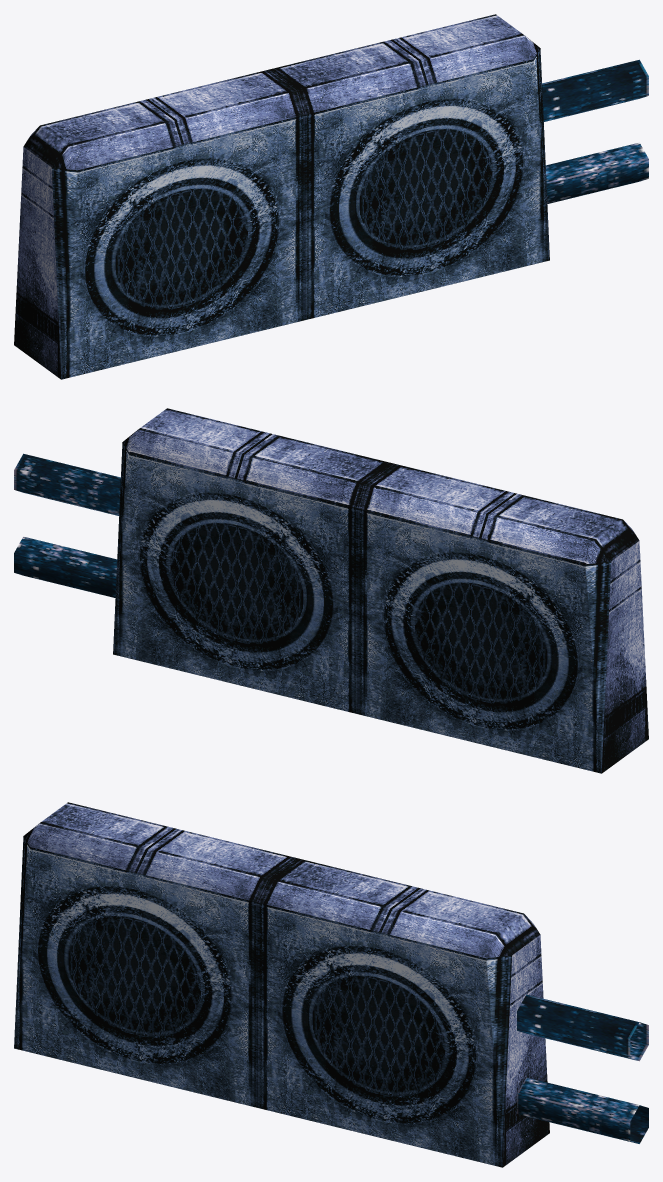
Rendered from AC Exaust Pipe.fbx.
3 views of the same model, one above another, from view 1: azimuth 30°, elevation 25°; view 2: azimuth 150°, elevation 25°; view 3: azimuth 330°, elevation 25° (orthographic).
Parts seen in each view (by area): view 1: object_3, object_0; view 2: object_3, object_0; view 3: object_3, object_0.
Part boxes in pixels (left/top/right/bottom): object_3: left=14, top=14, right=549, bottom=379; object_0: left=542, top=59, right=648, bottom=203; object_3: left=113, top=408, right=648, bottom=773; object_0: left=14, top=453, right=120, bottom=597; object_3: left=14, top=802, right=549, bottom=1167; object_0: left=517, top=994, right=648, bottom=1143.
Bounding box in the file's own units: 368 × 130 × 50.
